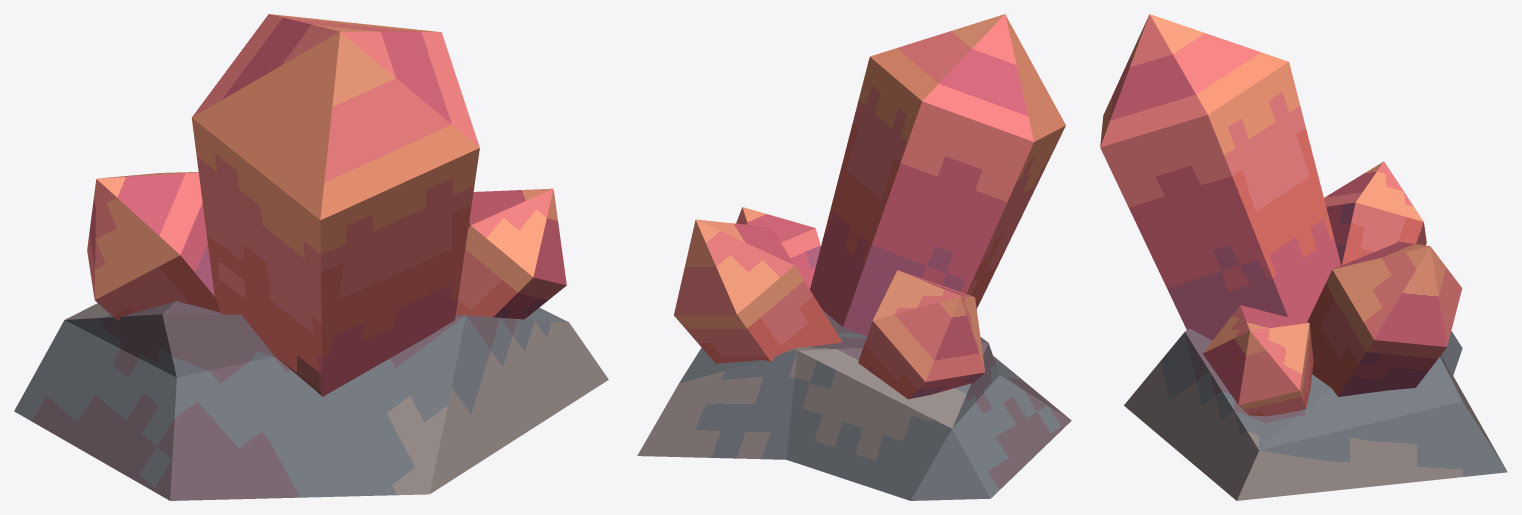
File: mineral.fbx
3 views of the same model, side by side, from view 1: azimuth 30°, elevation 25°; view 2: azimuth 150°, elevation 25°; view 3: azimuth 270°, elevation 25° (orthographic). The views are drawn at different scales.
Parts seen in each view (by area): view 1: Crystal; view 2: Crystal; view 3: Crystal.
Part boxes in pixels (box(x1,y1,x2,y2)): Crystal: box(14, 14, 608, 500); Crystal: box(637, 14, 1071, 500); Crystal: box(1100, 14, 1507, 500).
Bounding box in the file's own units: 59.38 × 55.54 × 56.39.
Materials: 1 (1 with a texture image).
